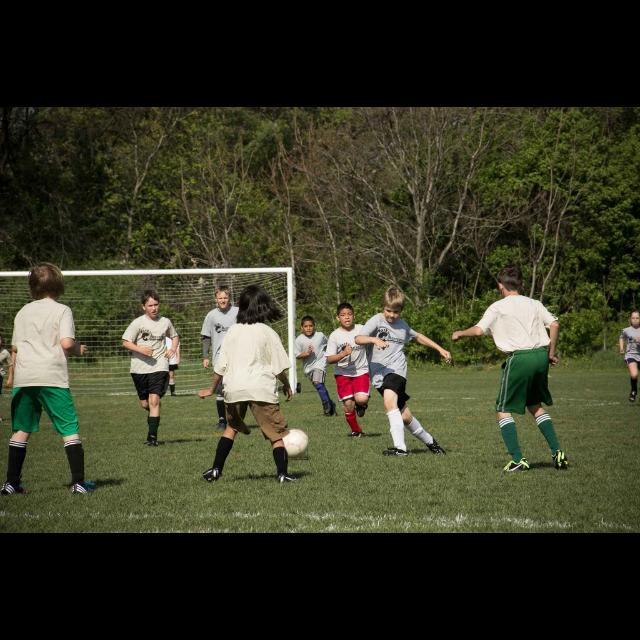Football: (284, 428, 308, 460)
